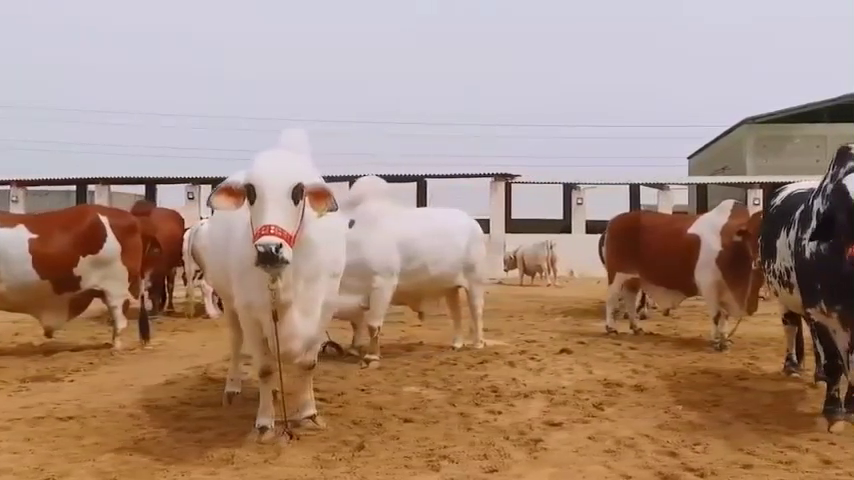bo: (203, 118, 343, 451), (328, 167, 496, 371), (757, 127, 854, 443), (594, 184, 767, 361), (2, 194, 152, 362), (136, 184, 190, 325), (497, 219, 564, 294)
